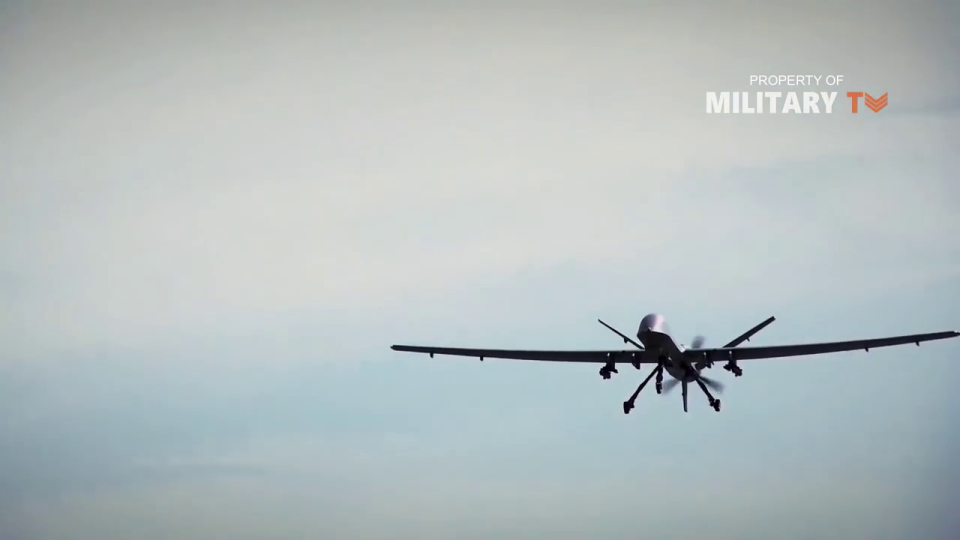military drone: (389, 313, 960, 413)
